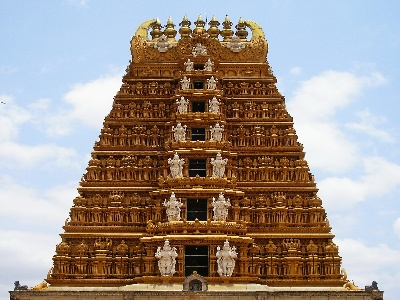gopura: (39, 26, 351, 287)
